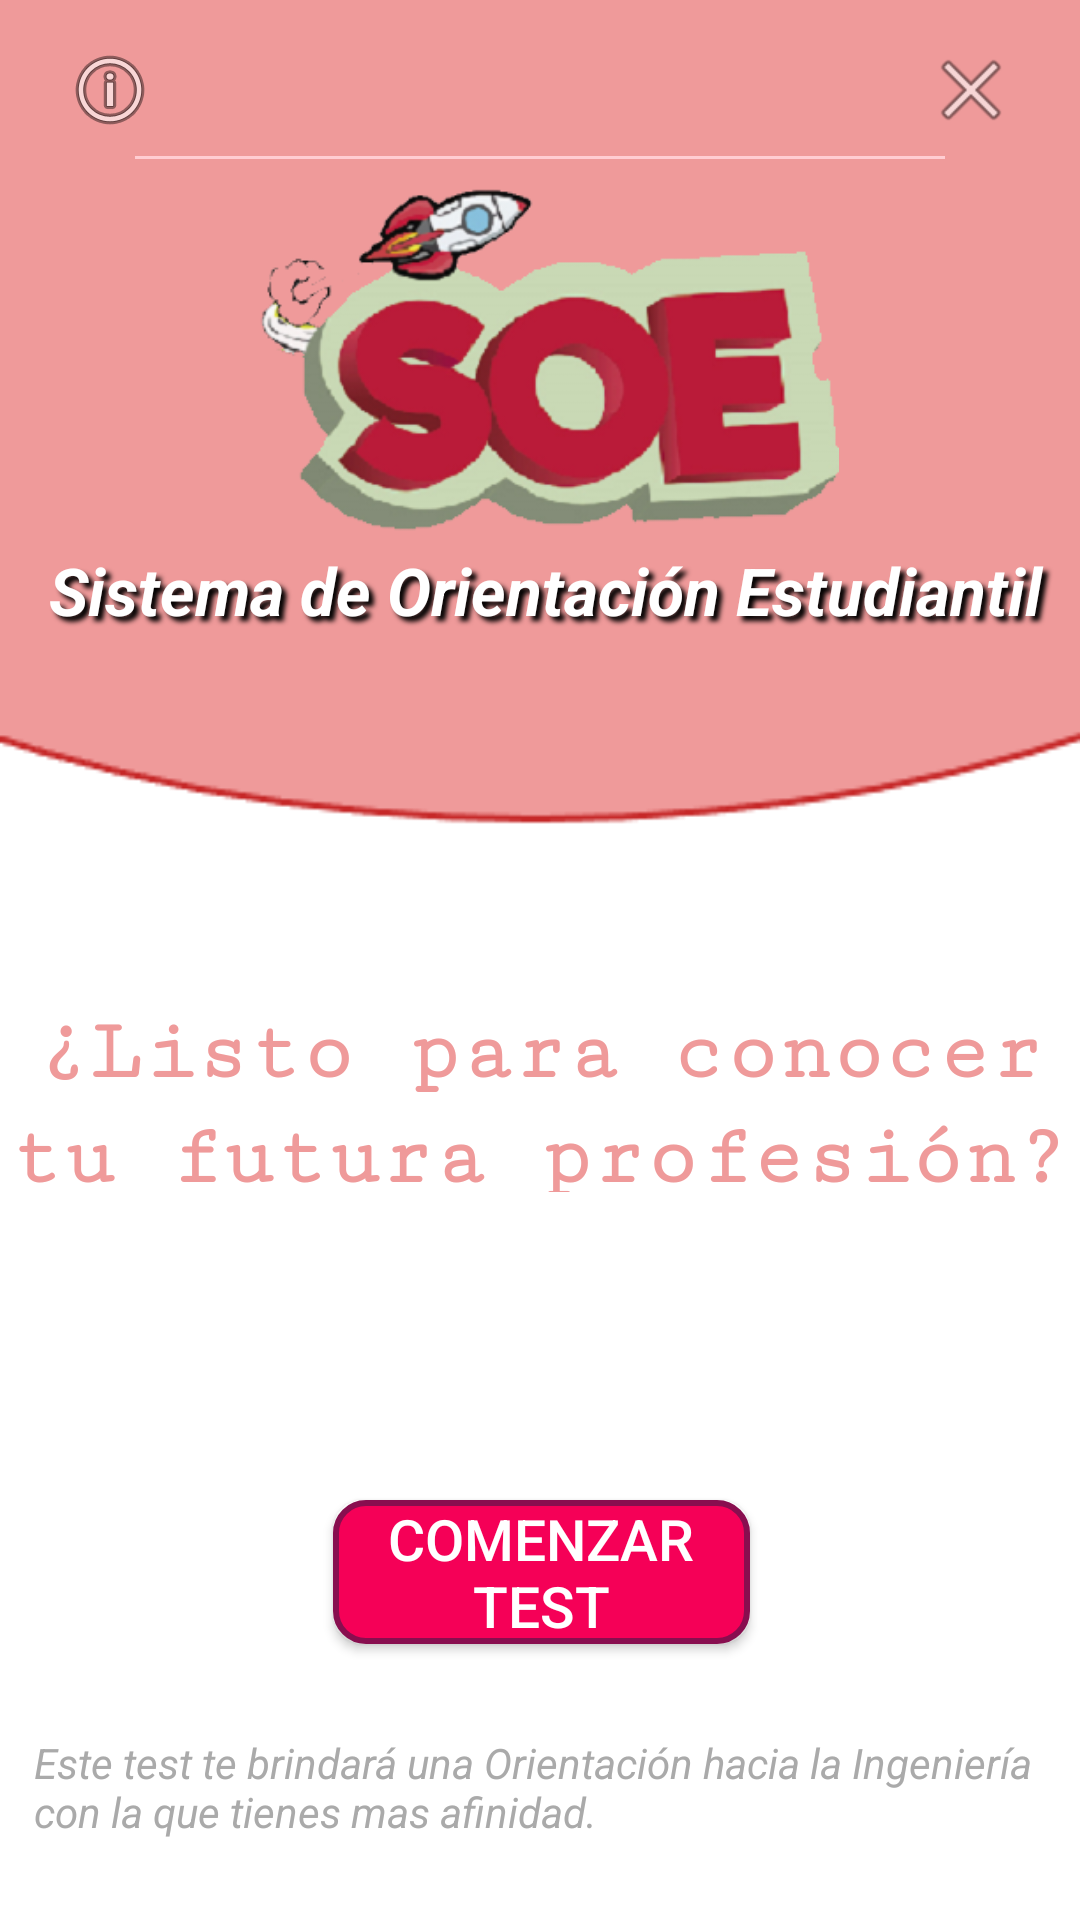

Icons on this 1080 × 1920 Android screen, each with the point to tap as [x,y]:
close clear cancel: [971,90]
info details: [110,90]
